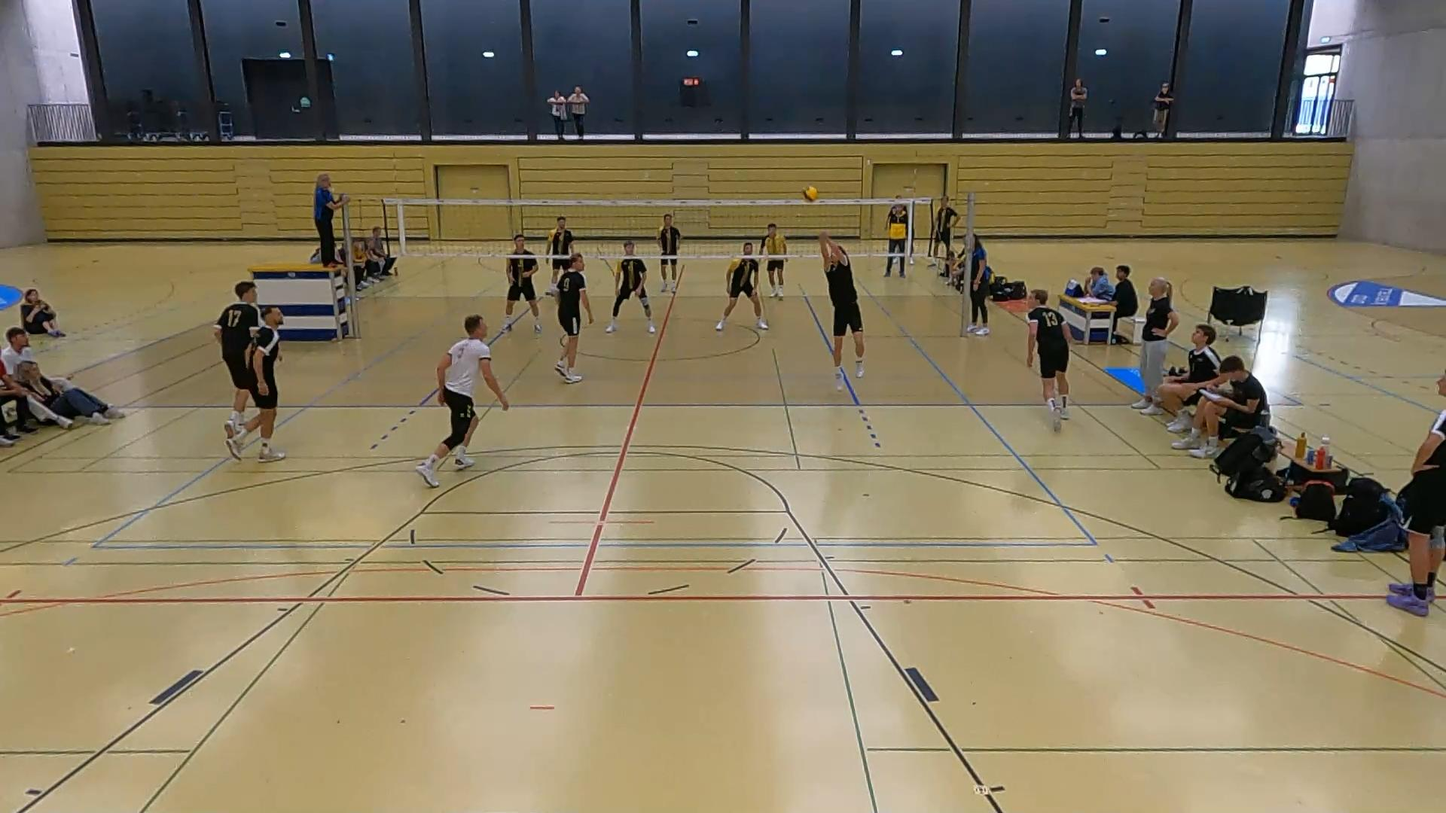Dig: (808, 227, 869, 391)
Player: (415, 315, 509, 487), (226, 306, 285, 462), (214, 281, 261, 437), (1027, 289, 1071, 431), (555, 253, 593, 382), (715, 242, 767, 330), (606, 241, 654, 333), (500, 235, 541, 333), (548, 216, 573, 294), (657, 214, 680, 293), (762, 224, 786, 299)
ball: (803, 183, 820, 206)
